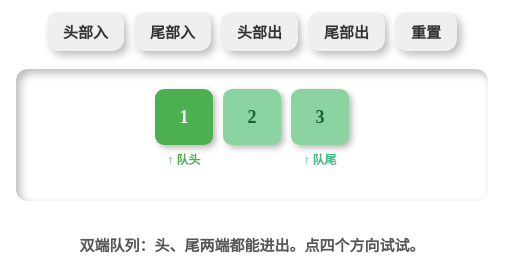
Test: DequeViz 双端队列互动 › TC-VIZ-DEQUEVIZ-03 尾部入：4 dqitem、status 含「尾」
Click the button "尾部入" at point(172, 32), box [134, 12, 211, 51]
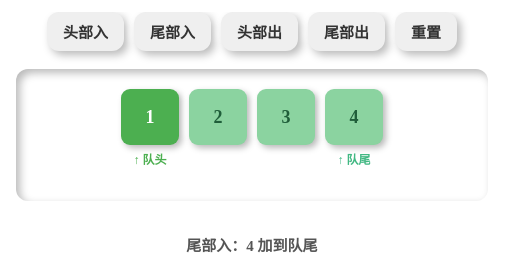
Expected: the message with class "status" shows "尾", [186, 234, 318, 256]
Expected: the number of elements with class "dqitem" is 4, [121, 89, 179, 145]; [189, 89, 247, 145]; [257, 89, 315, 145]; [325, 89, 383, 145]
